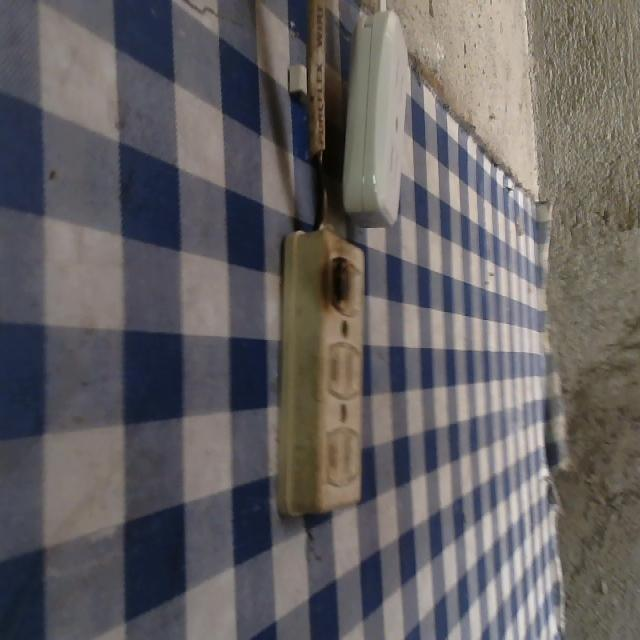-: (320, 252, 352, 311)
